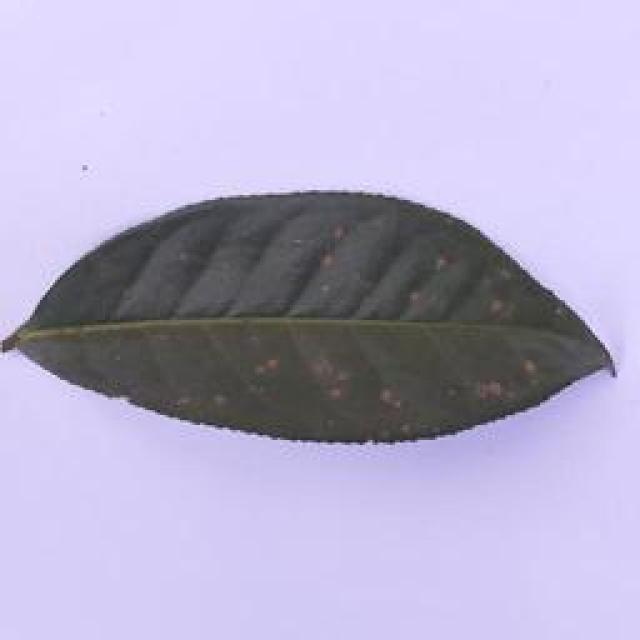Algal Leaf Spot: (0, 187, 622, 442)
